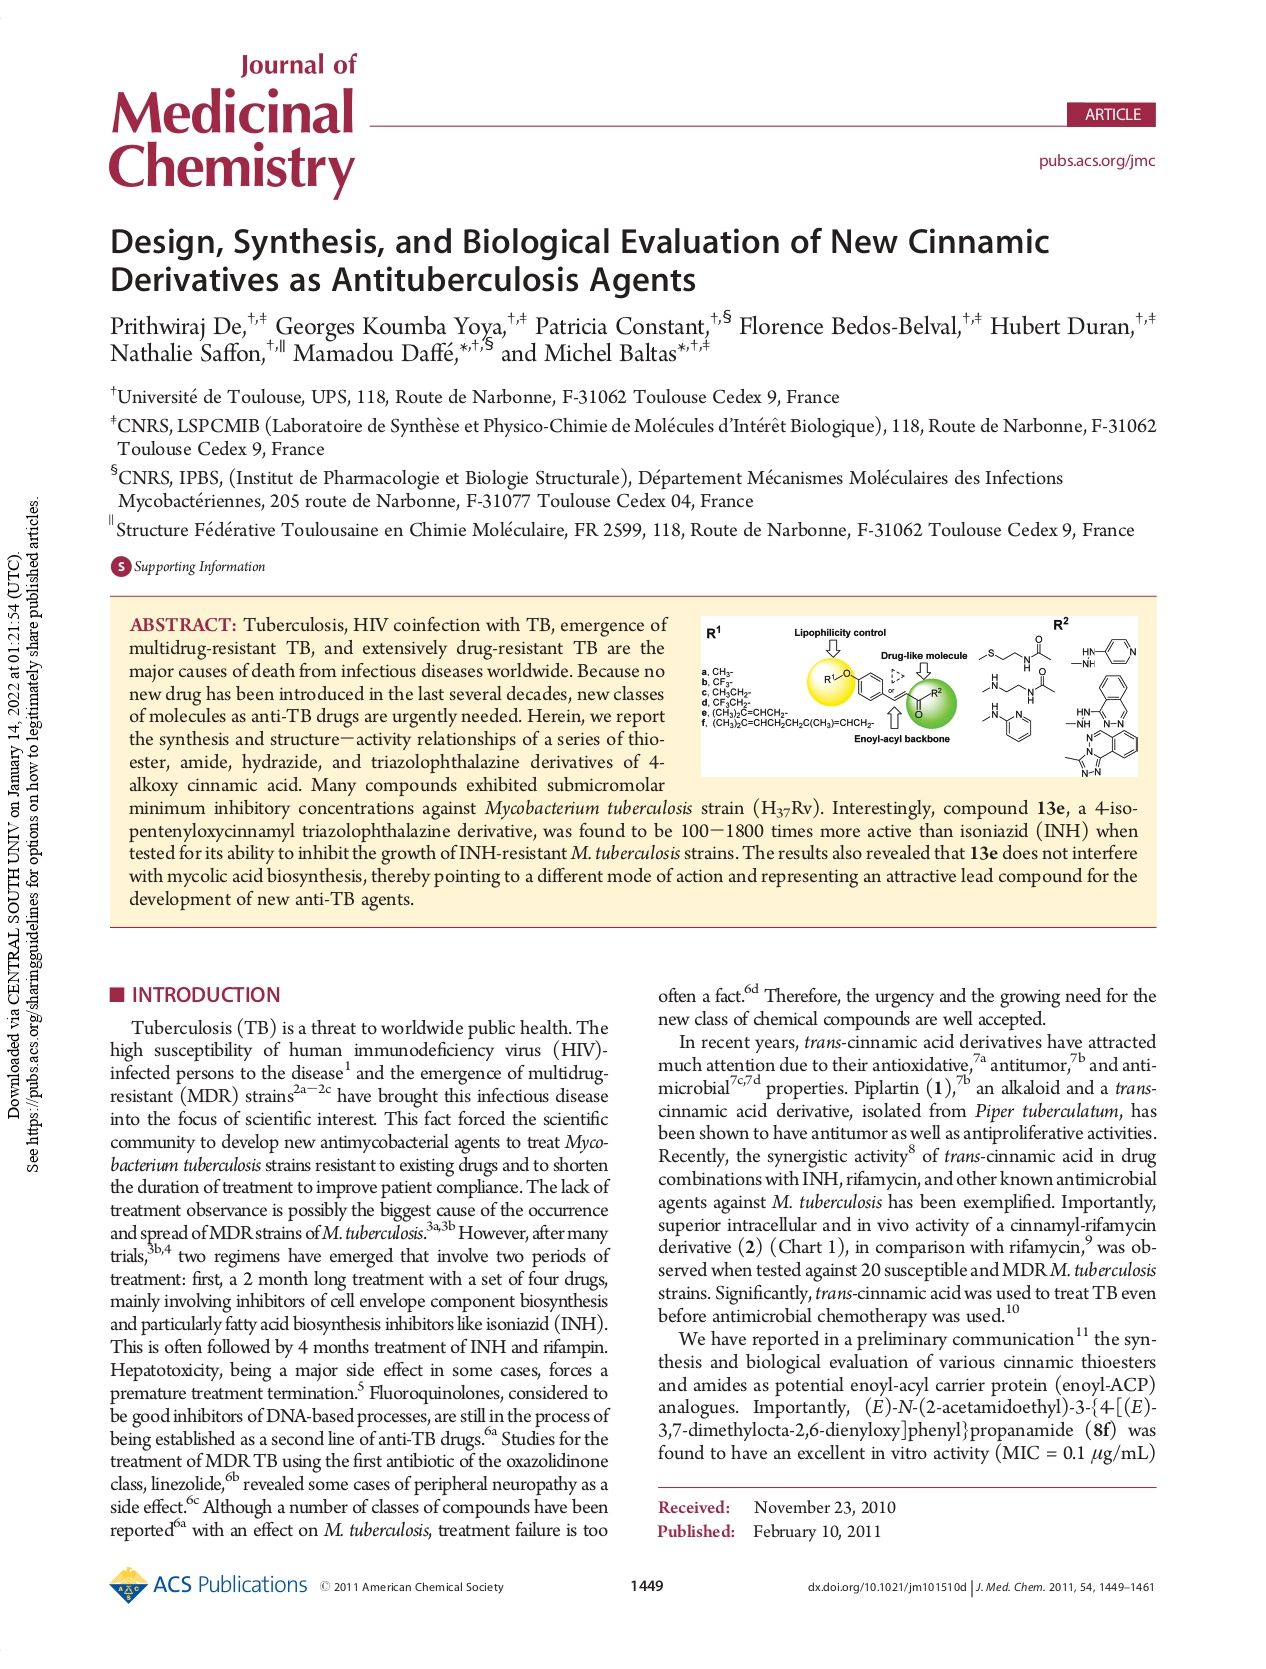exist_molecular: (822, 665, 944, 719), (1063, 673, 1129, 731), (1063, 729, 1141, 778), (973, 633, 1051, 672), (979, 668, 1056, 704), (1067, 633, 1138, 672), (976, 701, 1033, 743)
